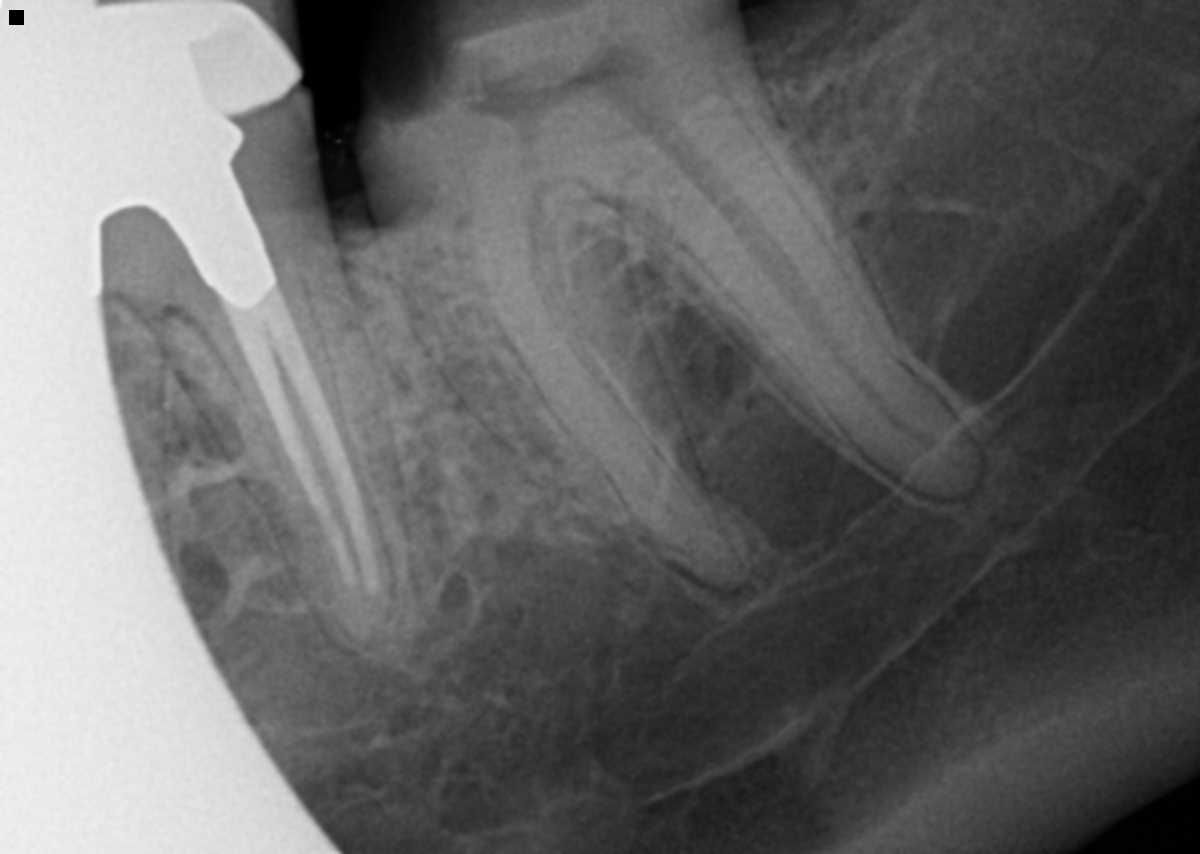Apical Lesion: (691, 545, 781, 618)
Distal Canal: (682, 152, 962, 461)
Distal Root: (641, 96, 980, 498), (170, 255, 402, 644)
Mesial Root: (413, 225, 749, 593)
Root Canal Filling: (230, 283, 379, 596)
decay: (366, 0, 491, 139)
